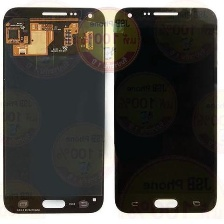phone: (111, 3, 219, 214), (0, 4, 106, 217)
